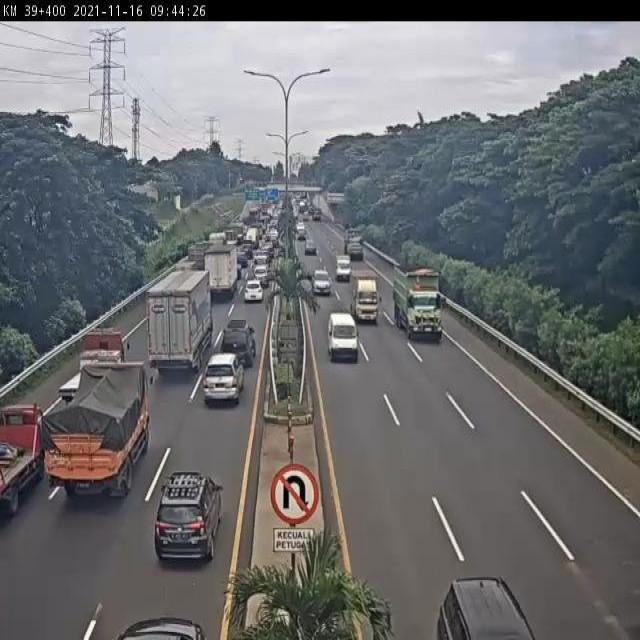car: (159, 468, 227, 560), (206, 344, 249, 405), (329, 308, 363, 371), (222, 314, 259, 362), (311, 267, 332, 297), (241, 279, 265, 305)
small truck: (56, 329, 132, 408), (0, 393, 46, 516), (349, 269, 381, 320)
truck-l-: (145, 268, 215, 372), (391, 264, 446, 348)
truck-m-: (44, 362, 154, 506), (206, 241, 238, 304)
